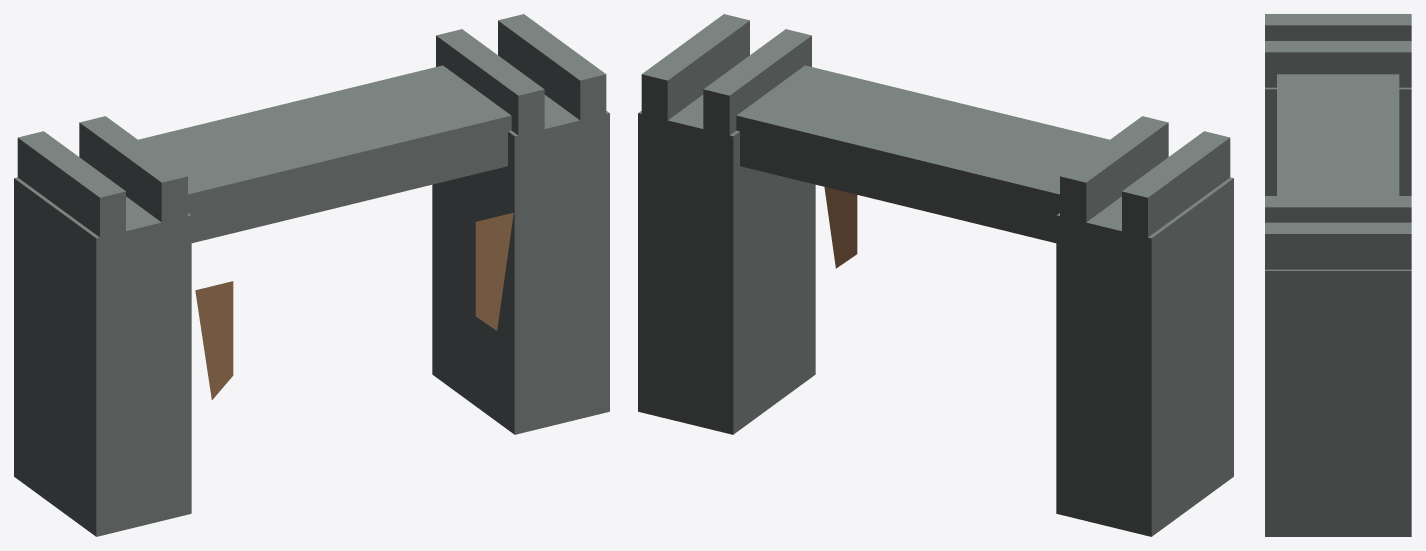
3 views of the same model, side by side, from view 1: azimuth 30°, elevation 25°; view 2: azimuth 150°, elevation 25°; view 3: azimuth 270°, elevation 25° (orthographic). The views are drawn at different scales.
Visible parts, largest first — view 1: ca4a51d4233f27cfa2ca7e02b5c565fda6dec8c15d58f6473c8e824a225c; view 2: ca4a51d4233f27cfa2ca7e02b5c565fda6dec8c15d58f6473c8e824a225c; view 3: ca4a51d4233f27cfa2ca7e02b5c565fda6dec8c15d58f6473c8e824a225c.
Part boxes in pixels (x1=…): ca4a51d4233f27cfa2ca7e02b5c565fda6dec8c15d58f6473c8e824a225c: x1=14, y1=14, x2=609, y2=536; ca4a51d4233f27cfa2ca7e02b5c565fda6dec8c15d58f6473c8e824a225c: x1=638, y1=14, x2=1233, y2=536; ca4a51d4233f27cfa2ca7e02b5c565fda6dec8c15d58f6473c8e824a225c: x1=1265, y1=14, x2=1411, y2=536.
Bounding box in the file's own units: 10.8 × 6.8 × 3.05.
